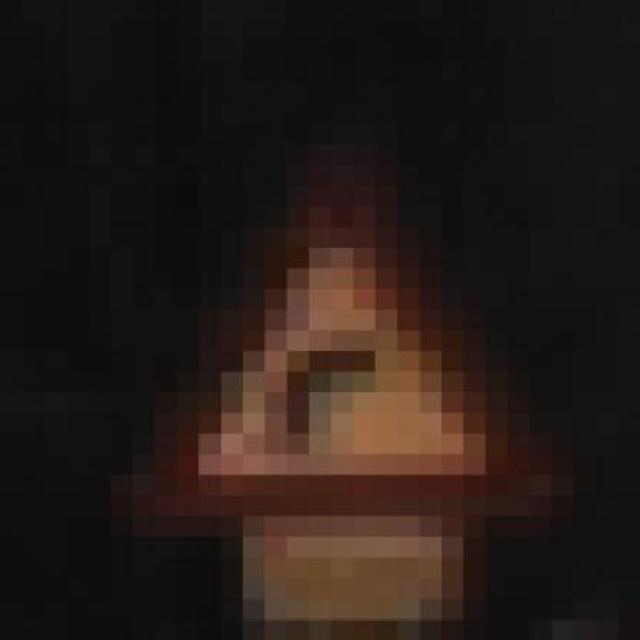Dangerous Rright Curve Ahead: (110, 166, 530, 516)
